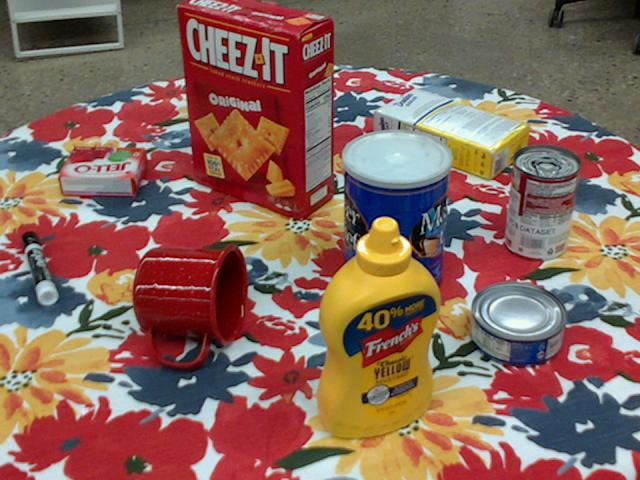cracker_box: (178, 0, 335, 215)
gelatin_box: (58, 147, 147, 196)
large_marker: (20, 230, 56, 304)
master_chef_can: (341, 130, 451, 306)
mug: (132, 245, 246, 368)
mustard_bottle: (316, 217, 439, 438)
potted_meat_can: (189, 51, 270, 131)
sugar_box: (373, 86, 530, 181)
tomato_soup_can: (504, 144, 579, 260)
tuna_fish_can: (468, 283, 565, 368)
